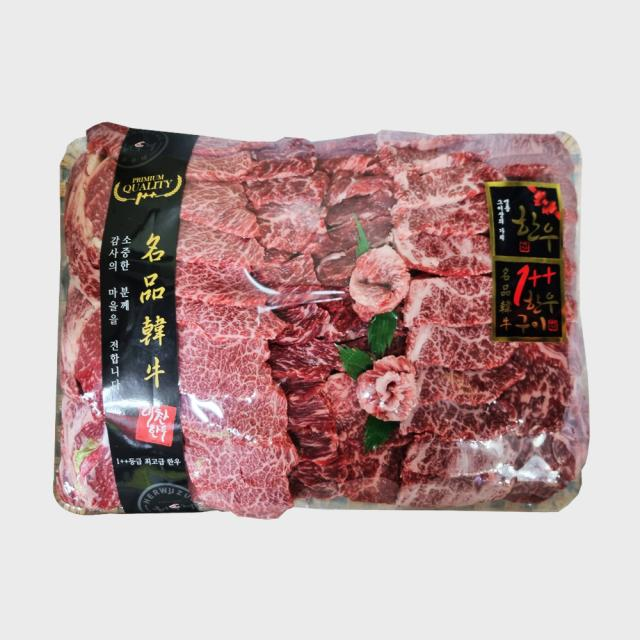beef: (72, 147, 560, 498)
